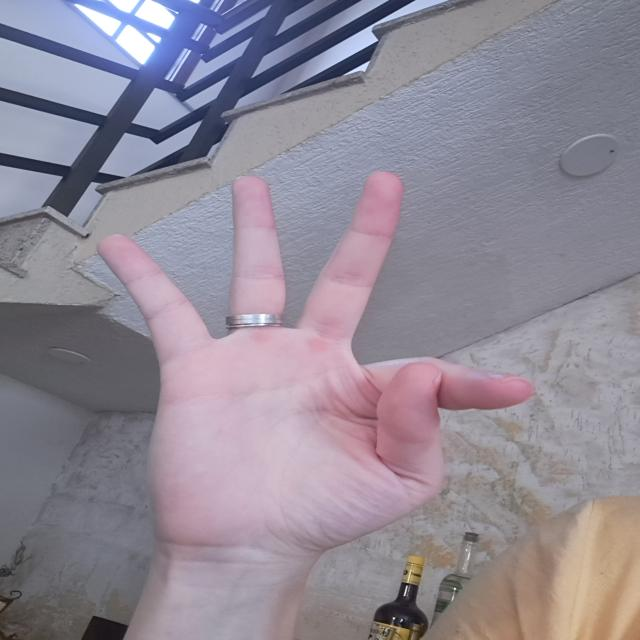T: (84, 156, 549, 568)
